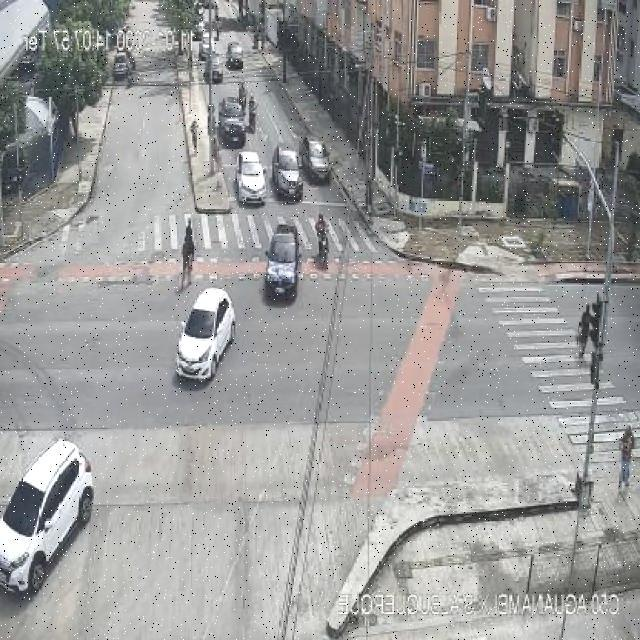Car: (0, 439, 92, 597), (174, 288, 236, 381), (263, 224, 300, 301), (271, 146, 304, 201), (235, 152, 267, 205), (299, 139, 331, 183), (218, 98, 247, 146), (113, 50, 135, 82), (204, 54, 224, 84), (198, 31, 218, 60), (226, 41, 244, 69)
